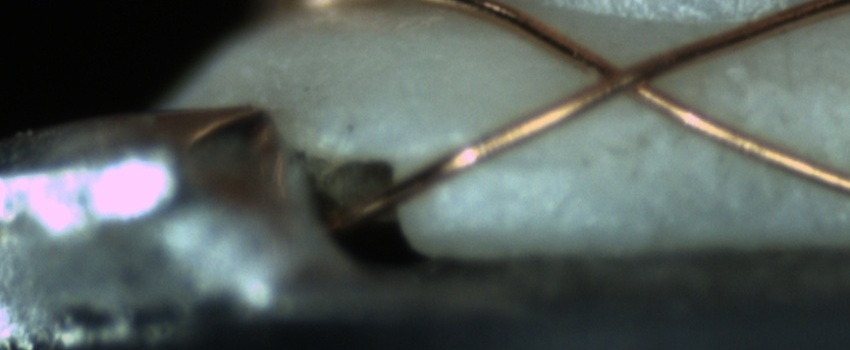CL: (576, 42, 681, 110)
DL: (447, 137, 582, 191)
